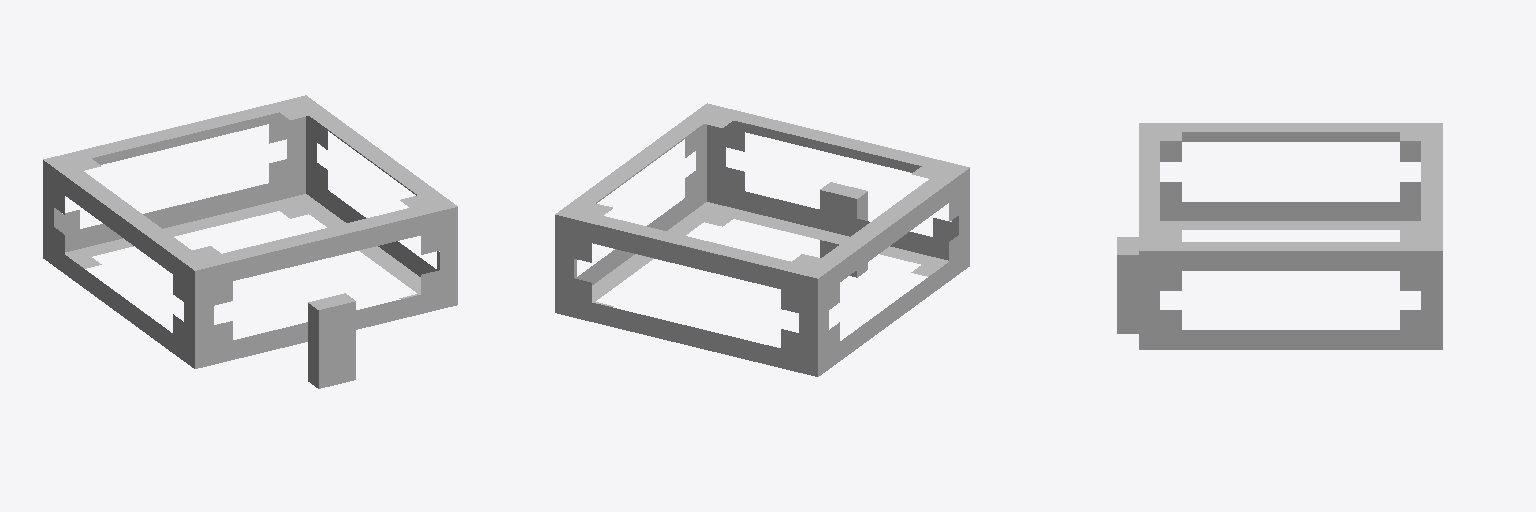
The model's file is reinforced_chest_lid_frame.obj.
3 views of the same model, side by side, from view 1: azimuth 30°, elevation 25°; view 2: azimuth 150°, elevation 25°; view 3: azimuth 270°, elevation 25° (orthographic).
Visible parts, largest first — view 1: reinforced_chest_lid_frame; view 2: reinforced_chest_lid_frame; view 3: reinforced_chest_lid_frame.
Boxes of the visible parts, x1,y1,x2,y2 form: reinforced_chest_lid_frame: [43, 95, 457, 388]; reinforced_chest_lid_frame: [555, 103, 969, 376]; reinforced_chest_lid_frame: [1117, 123, 1442, 349].
Size of the model in its own units: 0.875 by 0.4375 by 0.9375.